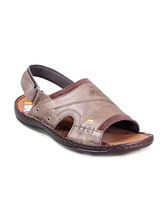shoes: (16, 57, 157, 162)
